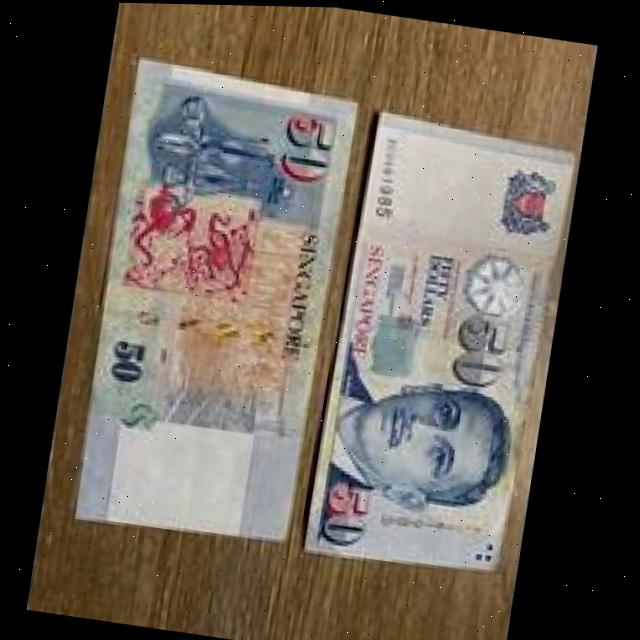banknote: (70, 52, 363, 549), (306, 101, 584, 581), (438, 302, 522, 390), (273, 95, 341, 194), (314, 474, 387, 553), (109, 323, 156, 399)
